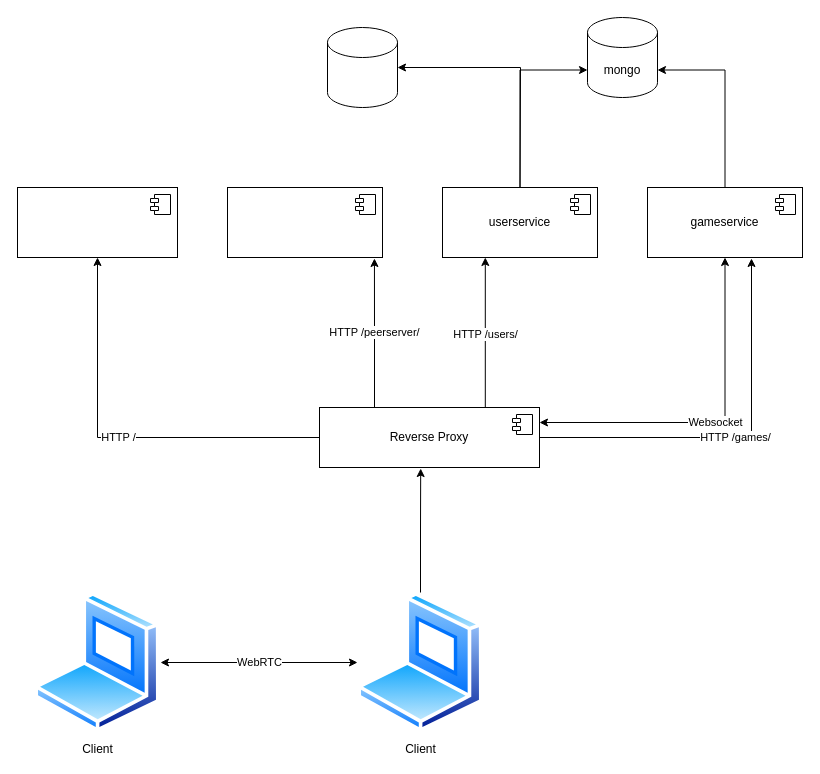
This 820x774 diagram has some shape labels left out. The centre of each missing label's shape, as x and y in pixels:
"peerJSserver" belongs at (x=304, y=222).
"redis" belongs at (x=362, y=67).
"Webserver" belongs at (x=97, y=222).
